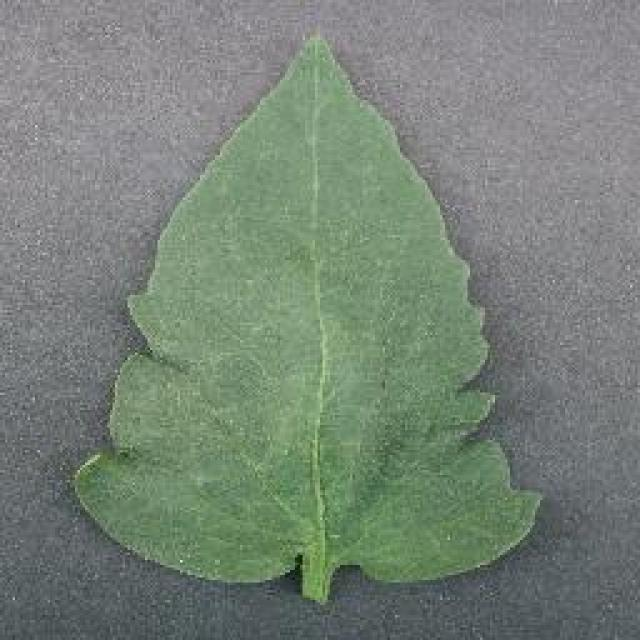healthy: (69, 32, 549, 605)
